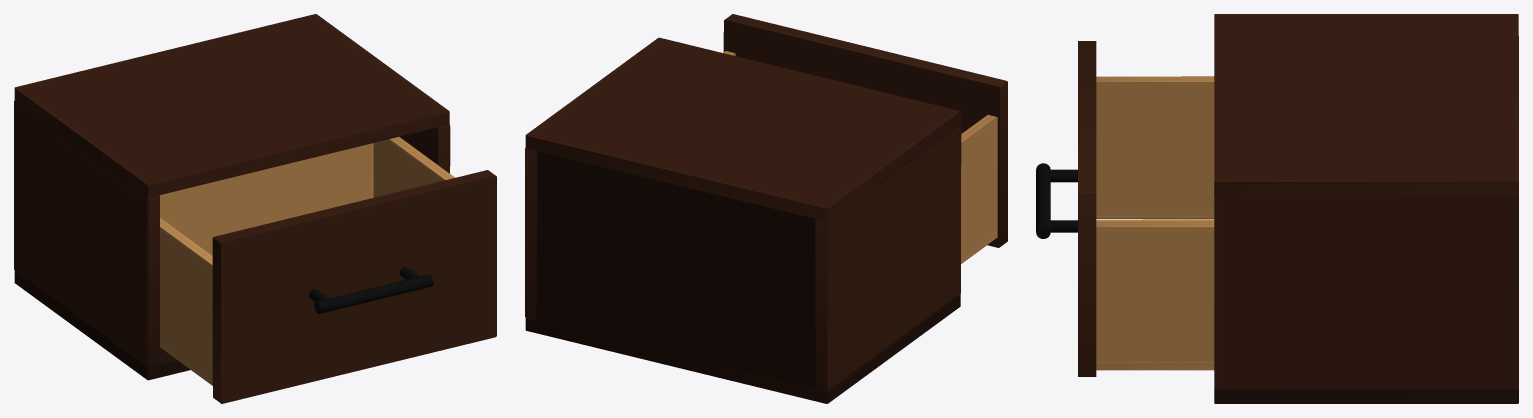
File: source.glb
3 views of the same model, side by side, from view 1: azimuth 30°, elevation 25°; view 2: azimuth 150°, elevation 25°; view 3: azimuth 270°, elevation 25° (orthographic). The views are drawn at different scales.
Size of the model in its own units: 0.3 by 0.185 by 0.3645.
1 material, 1 textured.
